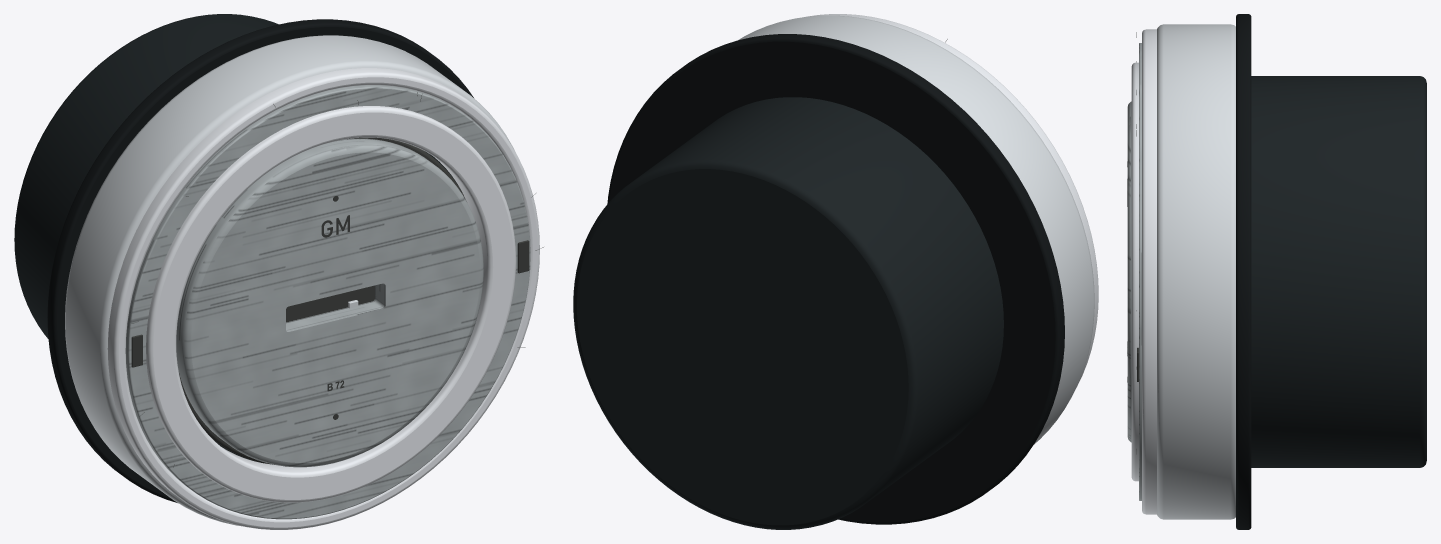
Rendered from lock.glb.
The picture shows the model from 3 angles, left to right: view 1: azimuth 30°, elevation 25°; view 2: azimuth 150°, elevation 25°; view 3: azimuth 270°, elevation 25°; orthographic projection.
Parts seen in each view (by area): view 1: ignition_rotor_Brushed_nickel_key, ignition_fixed_Polished_chrome_edge, ignition_fixed_Aged_chrome, ignition_fixed_Brushed_nickel_key, ignition_fixed_Satin_black_enamel, ignition_fixed_Dark_recess, ignition_rotor_Blackened_engraving, ignition_fixed_Blackened_engraving; view 2: ignition_fixed_Satin_black_enamel, ignition_fixed_Dark_recess, ignition_fixed_Aged_chrome, ignition_fixed_Polished_chrome_edge; view 3: ignition_fixed_Satin_black_enamel, ignition_fixed_Aged_chrome, ignition_fixed_Polished_chrome_edge, ignition_fixed_Dark_recess, ignition_rotor_Brushed_nickel_key, ignition_fixed_Brushed_nickel_key.
Boxes of the visible parts, <box> form: ignition_rotor_Brushed_nickel_key: <box>176,138,483,467</box>; ignition_fixed_Polished_chrome_edge: <box>107,68,539,529</box>; ignition_fixed_Aged_chrome: <box>65,35,515,526</box>; ignition_fixed_Brushed_nickel_key: <box>125,85,530,519</box>; ignition_fixed_Satin_black_enamel: <box>14,14,462,463</box>; ignition_fixed_Dark_recess: <box>47,19,473,502</box>; ignition_rotor_Blackened_engraving: <box>179,137,466,464</box>; ignition_fixed_Blackened_engraving: <box>131,92,543,467</box>; ignition_fixed_Satin_black_enamel: <box>573,97,1003,529</box>; ignition_fixed_Dark_recess: <box>607,34,1064,524</box>; ignition_fixed_Aged_chrome: <box>738,15,1094,444</box>; ignition_fixed_Polished_chrome_edge: <box>808,14,1098,386</box>; ignition_fixed_Satin_black_enamel: <box>1251,76,1426,467</box>; ignition_fixed_Aged_chrome: <box>1157,24,1235,519</box>; ignition_fixed_Polished_chrome_edge: <box>1131,29,1156,514</box>; ignition_fixed_Dark_recess: <box>1236,14,1251,529</box>; ignition_rotor_Brushed_nickel_key: <box>1127,101,1131,442</box>; ignition_fixed_Brushed_nickel_key: <box>1139,43,1141,500</box>.
Bounding box in the file's own units: 0.05 × 0.05 × 0.029.
6 materials, 1 textured.
